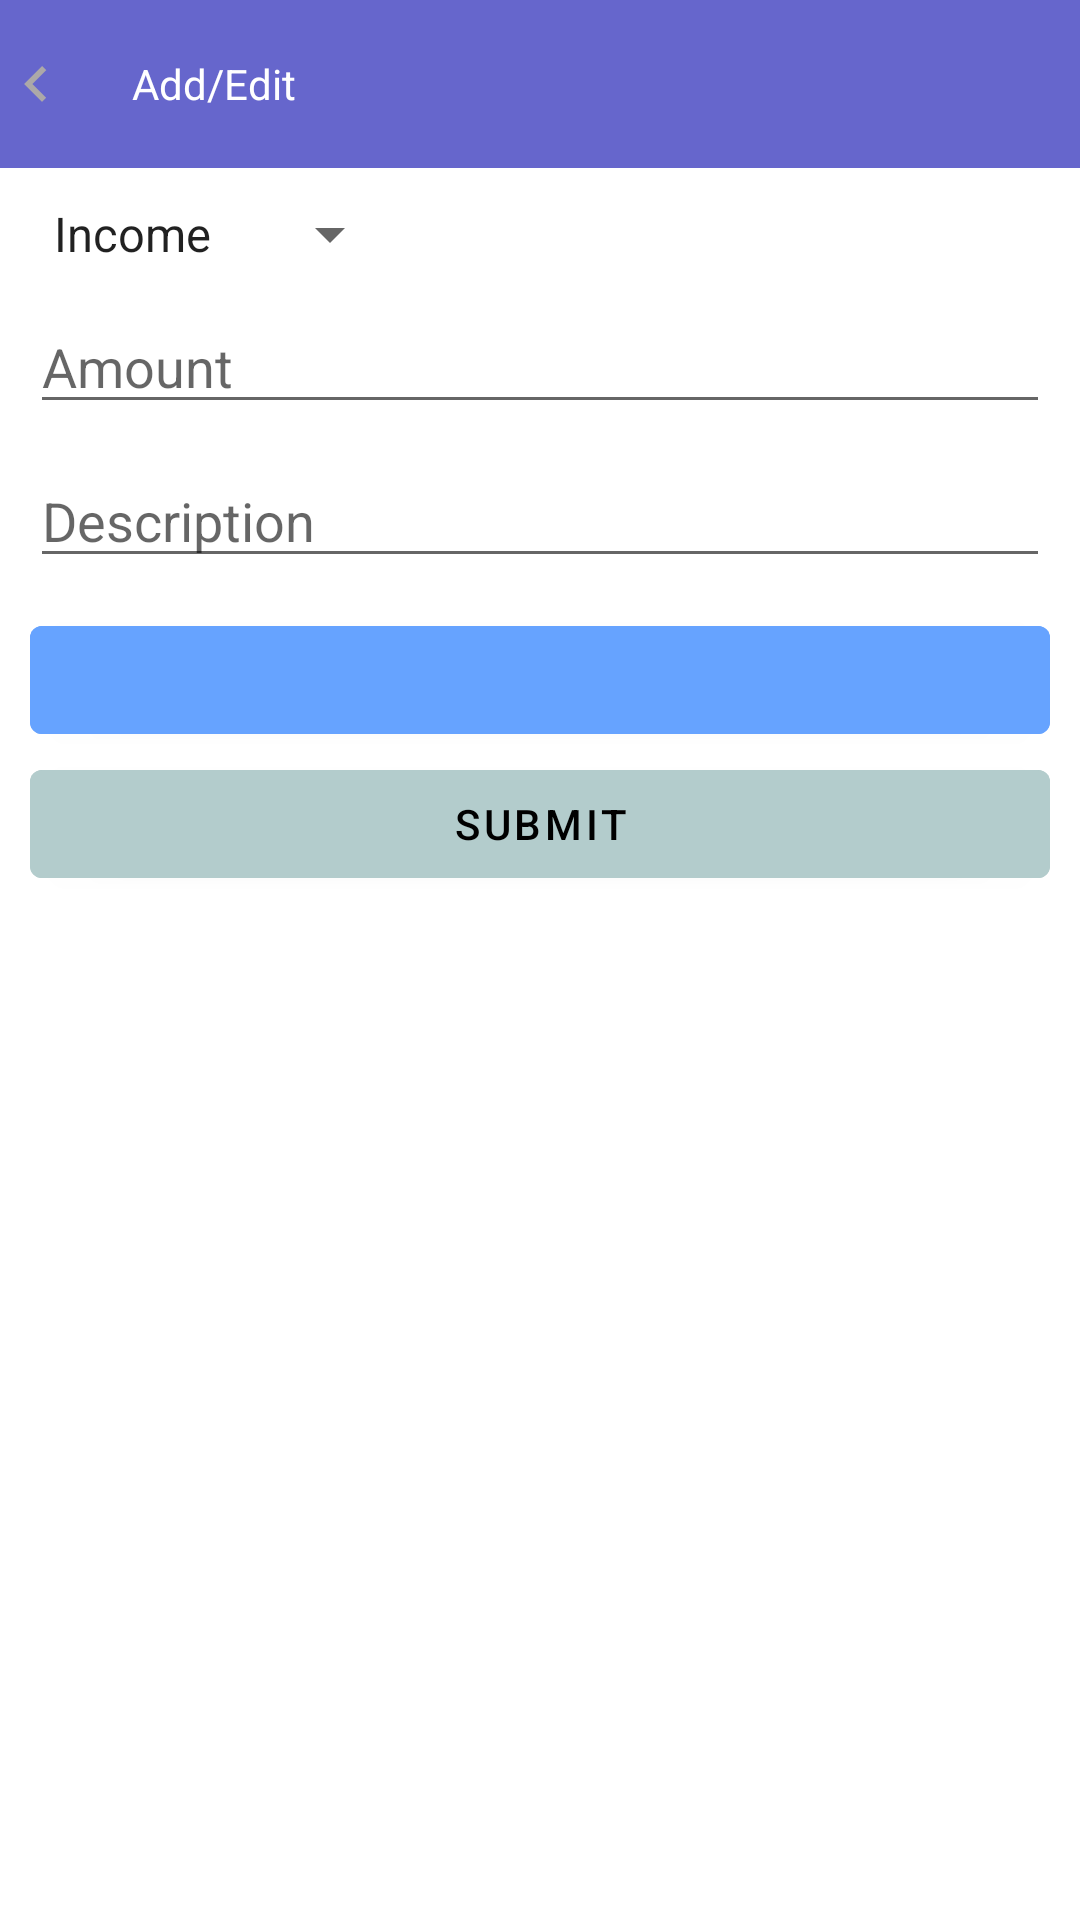

Named icons in this screenshot (1080x1920) and their bounding boxes, [x1=x1, y1=y1, x2=x2, y2=y2]:
back: [x1=24, y1=66, x2=46, y2=102]
